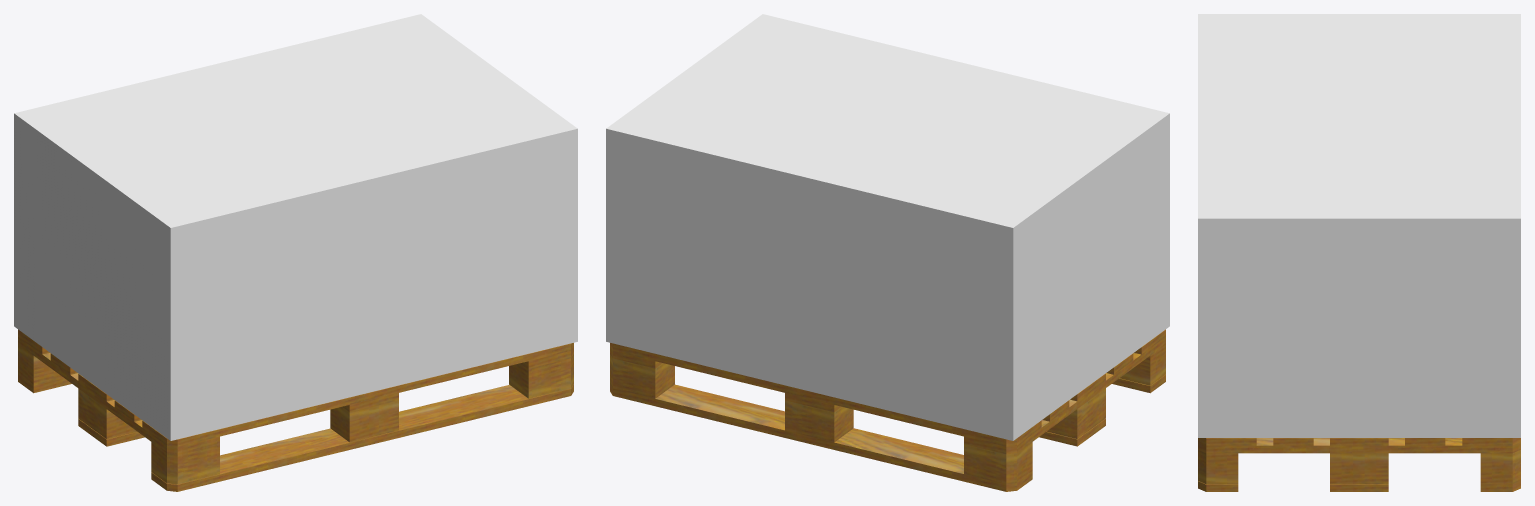
3 renders of one model, left to right at view 1: azimuth 30°, elevation 25°; view 2: azimuth 150°, elevation 25°; view 3: azimuth 270°, elevation 25°, orthographic. The views are drawn at different scales.
Parts seen in each view (by area): view 1: SketchUp, group_19, group_4, group_13, group_9, group_11, group_6, group_8, group_12; view 2: SketchUp, group_17, group_0, group_12, group_16, group_10, group_6, group_8, group_13; view 3: SketchUp, group_5, group_15, group_10, group_11, group_2, group_18, group_0, group_4.
Part boxes in pixels (x1=…): SketchUp: x1=14, y1=14, x2=577, y2=440; group_19: x1=151, y1=384, x2=573, y2=491; group_4: x1=142, y1=343, x2=573, y2=446; group_13: x1=151, y1=442, x2=219, y2=484; group_9: x1=330, y1=400, x2=398, y2=442; group_11: x1=509, y1=354, x2=573, y2=398; group_6: x1=18, y1=337, x2=219, y2=454; group_8: x1=78, y1=388, x2=137, y2=438; group_12: x1=18, y1=344, x2=63, y2=385; SketchUp: x1=606, y1=14, x2=1169, y2=440; group_17: x1=610, y1=384, x2=1032, y2=491; group_0: x1=610, y1=343, x2=1041, y2=446; group_12: x1=964, y1=442, x2=1032, y2=484; group_16: x1=785, y1=400, x2=853, y2=442; group_10: x1=610, y1=354, x2=674, y2=398; group_6: x1=964, y1=337, x2=1165, y2=454; group_8: x1=1047, y1=388, x2=1105, y2=438; group_13: x1=1120, y1=344, x2=1165, y2=385; SketchUp: x1=1198, y1=14, x2=1520, y2=437; group_5: x1=1198, y1=438, x2=1520, y2=453; group_15: x1=1330, y1=453, x2=1388, y2=484; group_10: x1=1480, y1=450, x2=1520, y2=484; group_11: x1=1198, y1=450, x2=1238, y2=484; group_2: x1=1330, y1=438, x2=1388, y2=445; group_18: x1=1330, y1=484, x2=1388, y2=491; group_0: x1=1462, y1=438, x2=1520, y2=445; group_4: x1=1198, y1=438, x2=1256, y2=445.
Size of the model in its own units: 47.24 by 31.5 by 29.45.
Materials: 2 (1 with a texture image).
